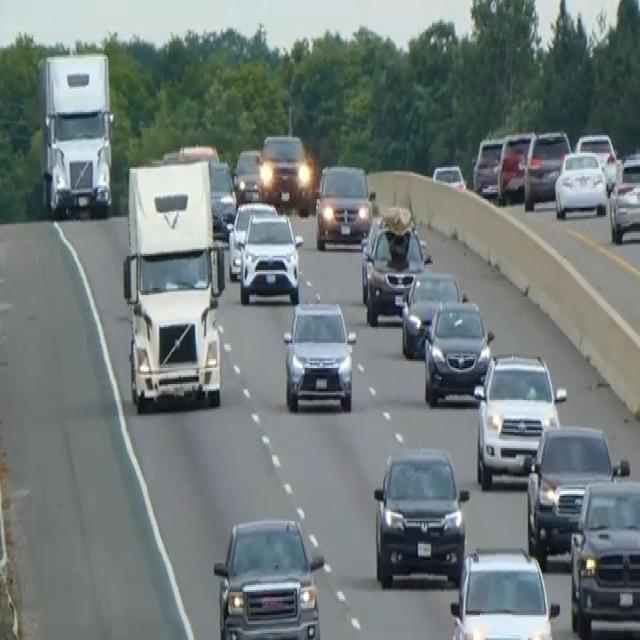car: (525, 421, 627, 567), (372, 442, 469, 588), (212, 514, 325, 638), (473, 348, 566, 489), (568, 473, 639, 638), (448, 542, 560, 638), (281, 295, 357, 413), (360, 207, 432, 326), (422, 297, 493, 405), (238, 210, 303, 304), (400, 267, 465, 357), (314, 160, 374, 249), (226, 197, 277, 279), (258, 130, 310, 208), (523, 126, 571, 210), (554, 148, 607, 218), (496, 128, 535, 203), (608, 151, 639, 244), (574, 130, 618, 190), (206, 157, 236, 231), (472, 133, 504, 199), (232, 146, 263, 202), (431, 160, 466, 192)
lorry: (121, 156, 226, 412), (36, 50, 115, 218)
